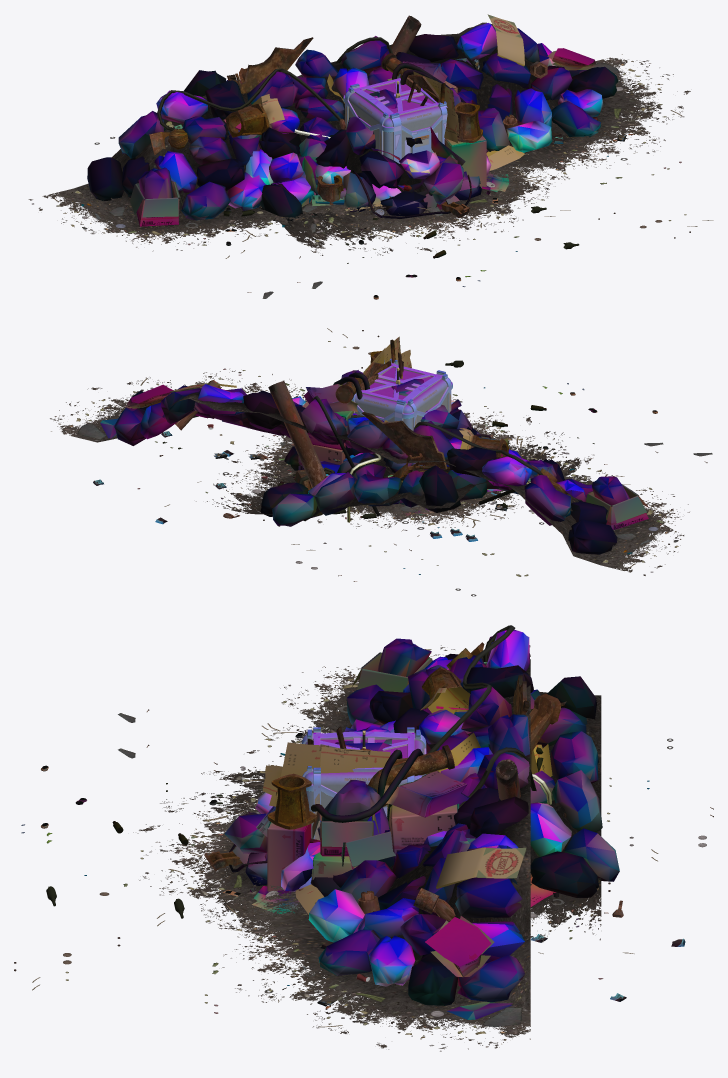
File: reinigung.glb
3 views of the same model, one above another, from view 1: azimuth 30°, elevation 25°; view 2: azimuth 150°, elevation 25°; view 3: azimuth 270°, elevation 25° (orthographic). The views are drawn at different scales.
Visible parts, largest first — view 1: prop_reinigung_trash_bag_pile_1_b, prop_reinigung_trash_bag_pile_1_e, prop_reinigung_trash_bag_pile_1_a, prop_reinigung_trash_bag_pile_1_j, prop_reinigung_tank_water_3_waste_0125x0125x0125_a, prop_reinigung_trash_bag_pile_1_f, prop_reinigung_trash_bag_scattered_1_lrg_a; view 2: prop_reinigung_trash_bag_pile_1_b, prop_reinigung_trash_bag_pile_1_a, prop_reinigung_trash_bag_pile_1_j, prop_reinigung_trash_bag_pile_1_e, prop_reinigung_tank_water_3_waste_0125x0125x0125_a, prop_reinigung_trash_bag_scattered_1_lrg_a, prop_reinigung_trash_bag_scattered_1_lrg_b, prop_reinigung_trash_bag_scattered_1_med_a; view 3: prop_reinigung_trash_bag_pile_1_b, prop_reinigung_trash_bag_pile_1_a, prop_reinigung_trash_bag_pile_1_j, prop_reinigung_trash_bag_pile_1_e, prop_reinigung_tank_water_3_waste_0125x0125x0125_a, prop_reinigung_trash_bag_scattered_1_lrg_a.
Boxes of the visible parts, x1,y1,x2,y2 form: prop_reinigung_trash_bag_pile_1_b: (28, 14, 690, 251); prop_reinigung_trash_bag_pile_1_e: (315, 78, 557, 241); prop_reinigung_trash_bag_pile_1_a: (184, 68, 517, 255); prop_reinigung_trash_bag_pile_1_j: (292, 53, 555, 239); prop_reinigung_tank_water_3_waste_0125x0125x0125_a: (343, 74, 447, 163); prop_reinigung_trash_bag_pile_1_f: (356, 155, 536, 238); prop_reinigung_trash_bag_scattered_1_lrg_a: (110, 134, 713, 299); prop_reinigung_trash_bag_pile_1_b: (50, 369, 689, 575); prop_reinigung_trash_bag_pile_1_a: (196, 411, 594, 526); prop_reinigung_trash_bag_pile_1_j: (233, 336, 549, 530); prop_reinigung_trash_bag_pile_1_e: (234, 352, 546, 528); prop_reinigung_tank_water_3_waste_0125x0125x0125_a: (352, 358, 452, 430); prop_reinigung_trash_bag_scattered_1_lrg_a: (93, 328, 712, 590); prop_reinigung_trash_bag_scattered_1_lrg_b: (137, 334, 663, 596); prop_reinigung_trash_bag_scattered_1_med_a: (215, 421, 563, 538); prop_reinigung_trash_bag_pile_1_b: (214, 625, 536, 1051); prop_reinigung_trash_bag_pile_1_a: (133, 676, 619, 942); prop_reinigung_trash_bag_pile_1_j: (188, 738, 469, 942); prop_reinigung_trash_bag_pile_1_e: (139, 726, 534, 941); prop_reinigung_tank_water_3_waste_0125x0125x0125_a: (301, 727, 426, 840); prop_reinigung_trash_bag_scattered_1_lrg_a: (14, 709, 713, 1013).
Size of the model in its own units: 9.72 by 1.57 by 6.73.
30 materials, 26 textured.
